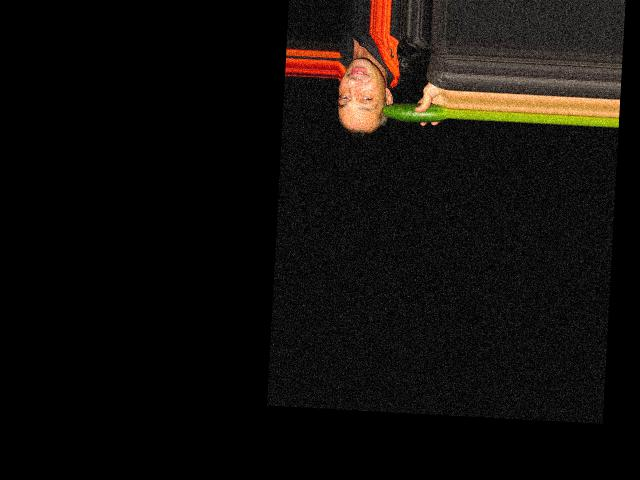cucumber: (381, 101, 447, 123)
